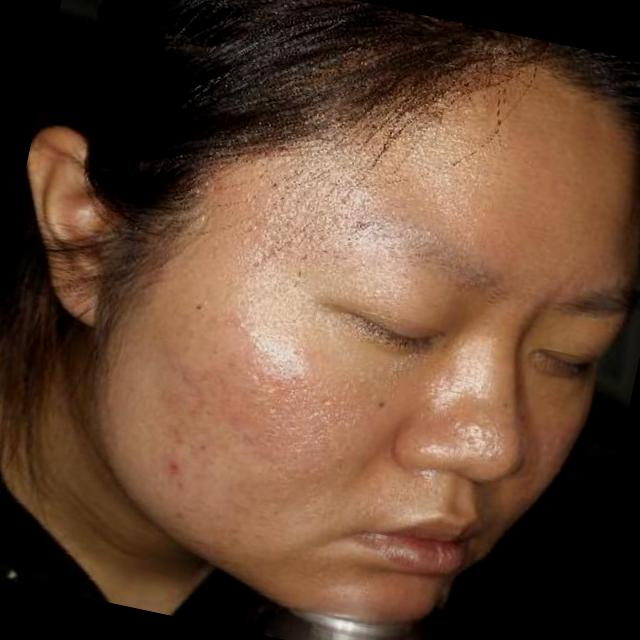blackhead: (160, 455, 182, 474), (178, 369, 195, 384)
darkspot: (170, 431, 186, 447), (194, 440, 212, 454)
nodules: (477, 445, 497, 464), (285, 365, 306, 383), (244, 328, 258, 341), (269, 247, 281, 260), (235, 317, 249, 328), (252, 340, 266, 350)
